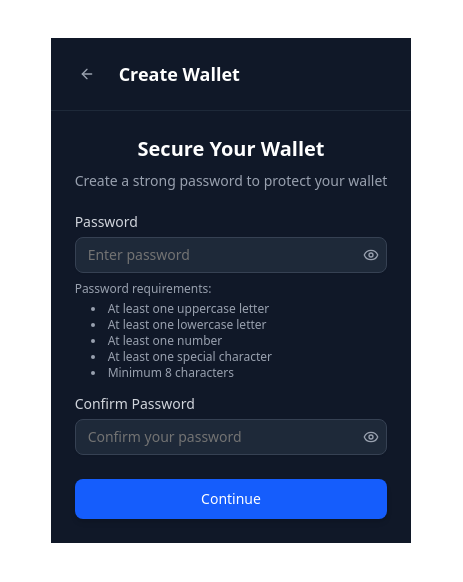
Test: CreateWallet component › shows error if passwords don't match or invalid
Type "weakpass" into the password field with placeholder "Enter password" at {"x": 231, "y": 254}, box [75,236,387,272]
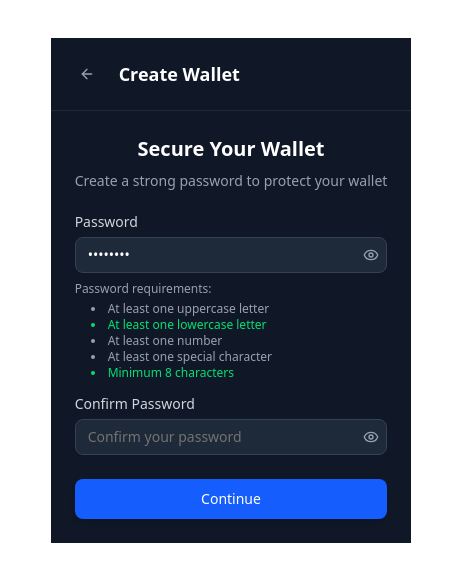
Type "differentpass" into the password field with placeholder "Confirm your password" at {"x": 231, "y": 436}, box [75,418,387,454]
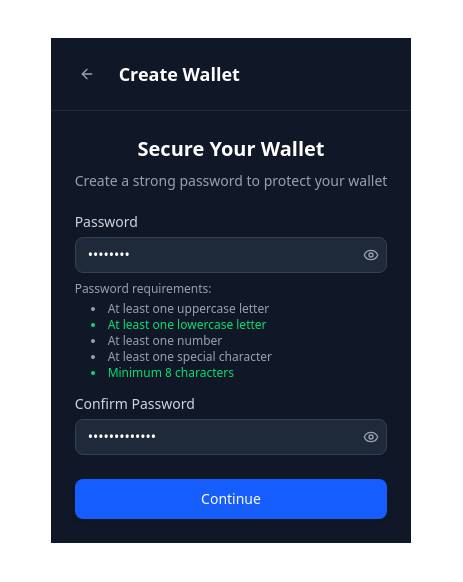
Click the button "Continue" at {"x": 231, "y": 498}, box [75,478,387,518]
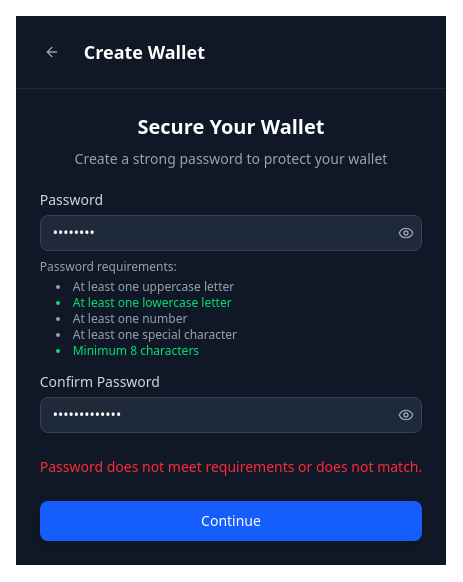
Expected: the text "Password does not meet requirements or does not match." is shown, [40,456,422,476]
